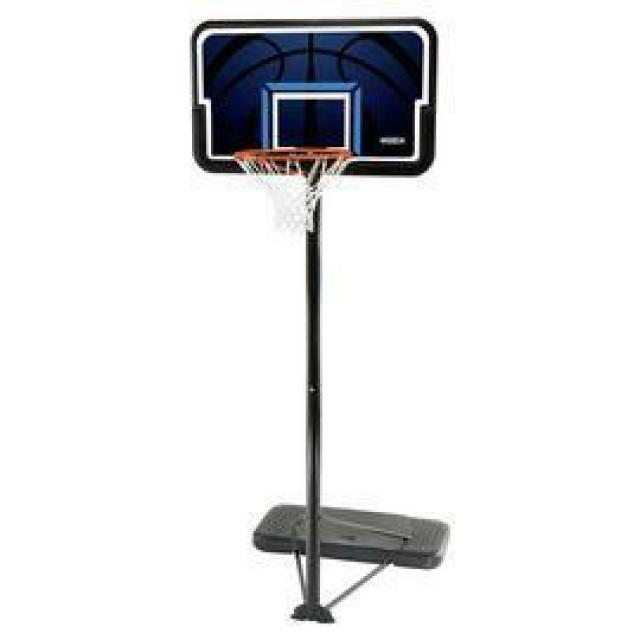hoop: (234, 147, 354, 233)
